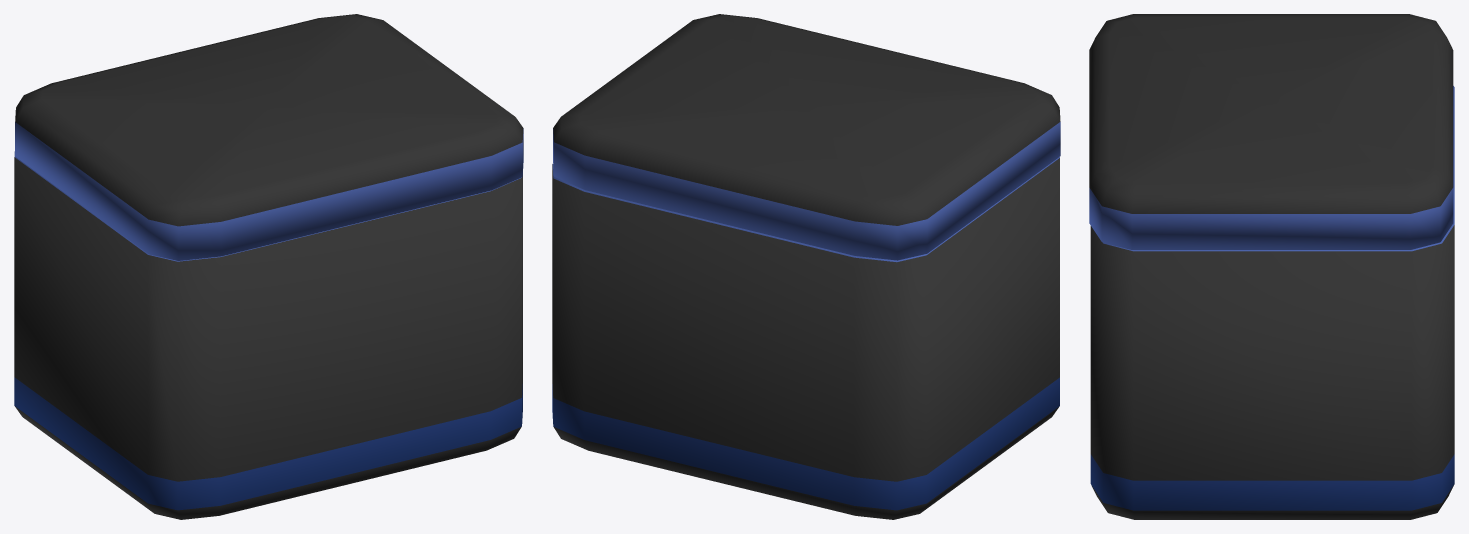
The model's file is Cooler.fbx.
3 renders of one model, left to right at view 1: azimuth 30°, elevation 25°; view 2: azimuth 150°, elevation 25°; view 3: azimuth 270°, elevation 25°, orthographic. The views are drawn at different scales.
Visible parts, largest first — view 1: Cooler, Lid; view 2: Cooler, Lid; view 3: Cooler, Lid.
Part boxes in pixels (box(x1,y1,x2,y2)): Cooler: box(14, 151, 522, 519); Lid: box(15, 14, 523, 260); Cooler: box(552, 157, 1059, 519); Lid: box(553, 14, 1060, 260); Cooler: box(1090, 86, 1454, 519); Lid: box(1089, 14, 1453, 249).
Bounding box in the file's own units: 295 × 240 × 238.
